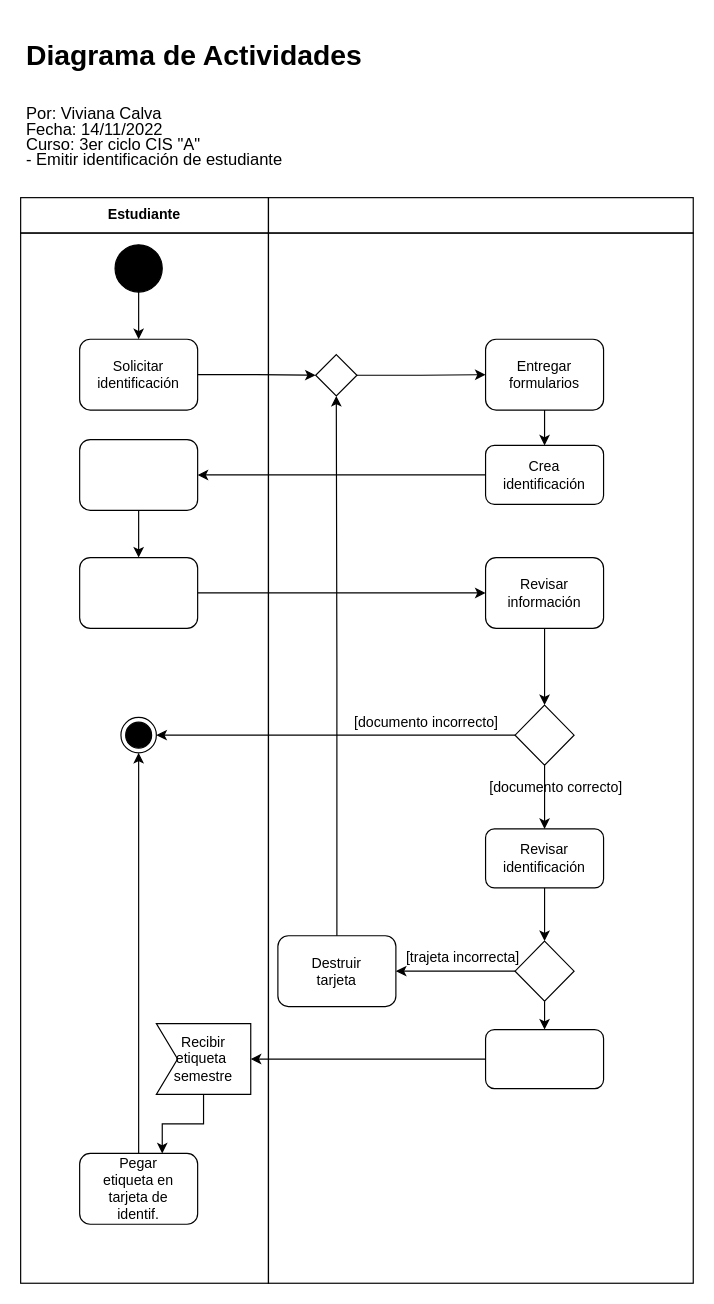
The diagram is 714 pixels wide and 1304 high, and some of its shapes have lost their labels. The shapes that lost their labels are listed below. From the top down, each one's centre as x and y in pixels, then its label:
At [480,214]: "Empleado Oficina Estudiantes".
At [138,474]: "Llenar formularios y tarjeta de identificación".
At [138,592]: "Devolver formularios".
At [544,1058]: "Sellar identificación".
